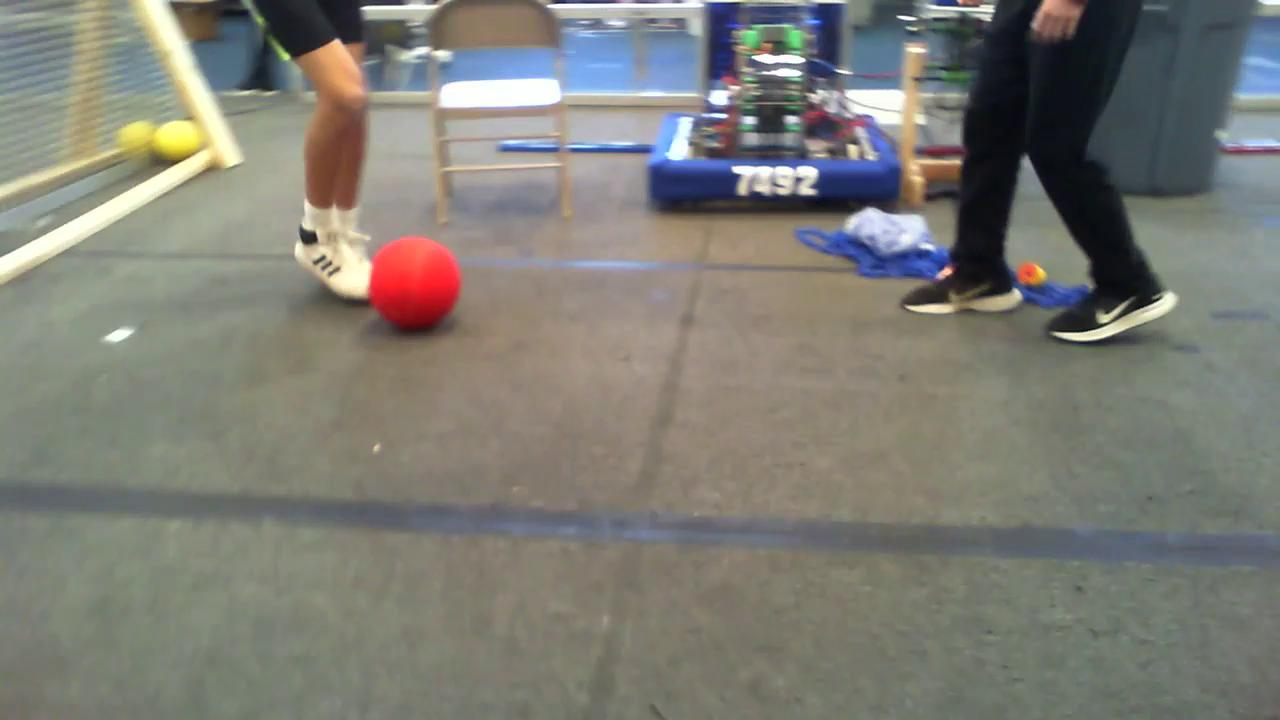Red_Ball: (359, 234, 463, 336)
